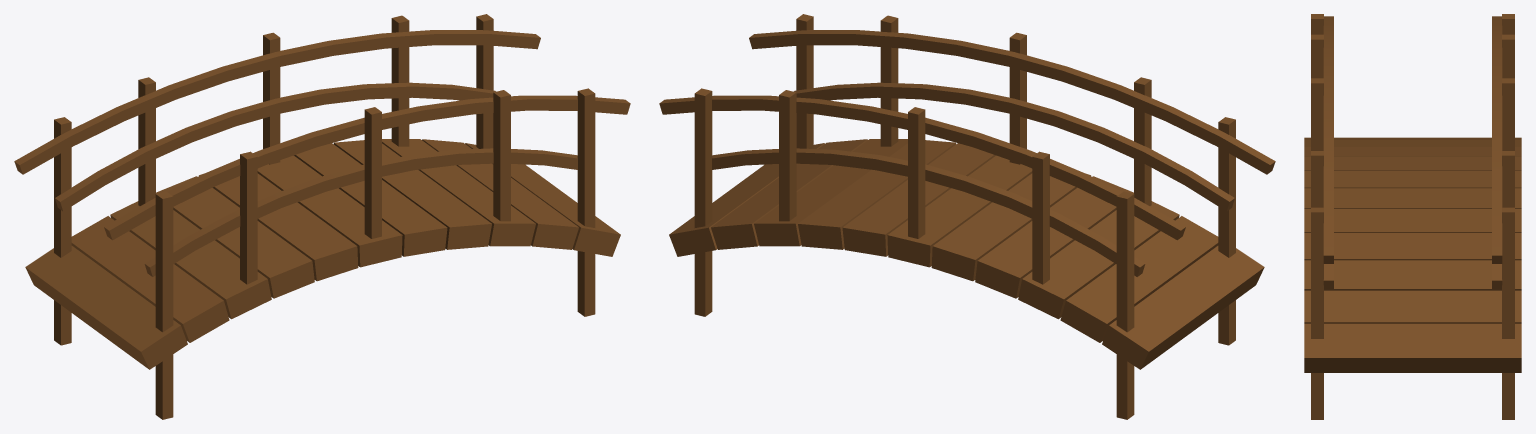
File: Holzbrücke.fbx
3 views of the same model, side by side, from view 1: azimuth 30°, elevation 25°; view 2: azimuth 150°, elevation 25°; view 3: azimuth 270°, elevation 25° (orthographic). The views are drawn at different scales.
Visible parts, largest first — view 1: Holzbruecke; view 2: Holzbruecke; view 3: Holzbruecke.
Part boxes in pixels (x1,y1,x2,y2): Holzbruecke: (14,14,630,419); Holzbruecke: (659,14,1275,419); Holzbruecke: (1304,14,1521,419).
Size of the model in its own units: 494 by 230 by 190.
